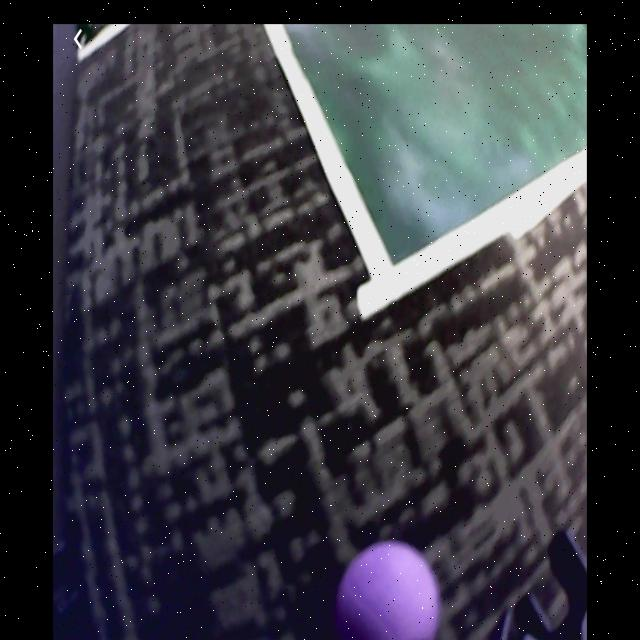ball: (340, 545, 443, 640)
